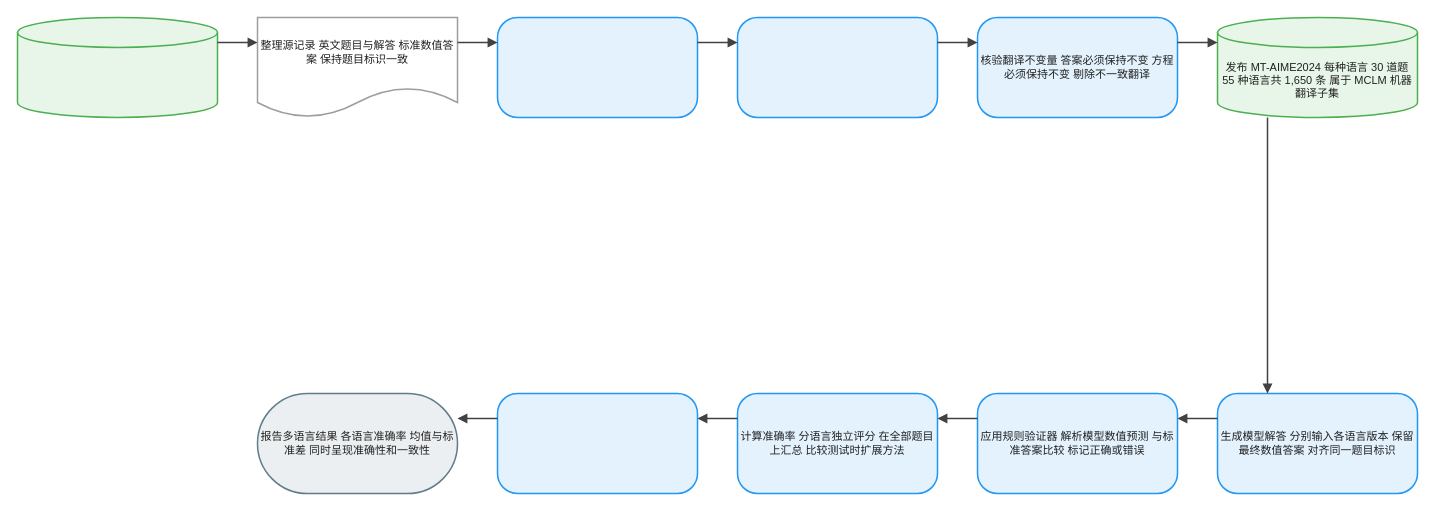
Some shapes in this 1436 by 512 pixel diagram are drawn without their labels. Here are the shapes that lost their labels. From the top down, the box of each, then its label:
(16, 16, 218, 118): 从 AIME 2024 开始 使用完整 30 道题 竞赛级数学问题 答案均为数值
(496, 16, 698, 118): 用 GPT-4o 翻译题目 覆盖 55 种语言 要求母语级流畅表达 只翻译而不解题
(736, 16, 938, 118): 翻译参考解答 保留原有结构与细节 LaTeX 与代码保持不变 使用自然的目标语言
(496, 392, 698, 494): 衡量跨语言一致性 将各语言视作评分者 使用正确与错误标签 计算 Fleiss' Kappa
